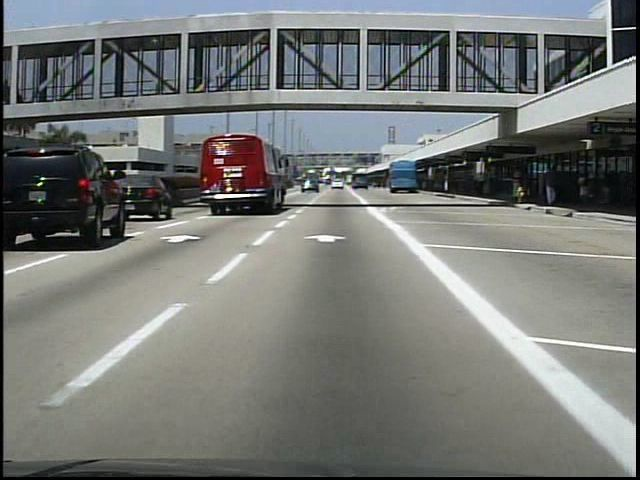person: (576, 169, 594, 212), (473, 170, 485, 193)
